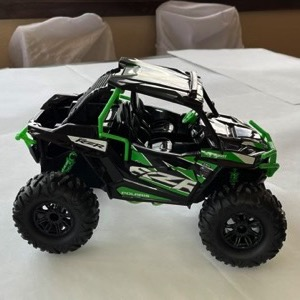polaris: (11, 55, 290, 272)
